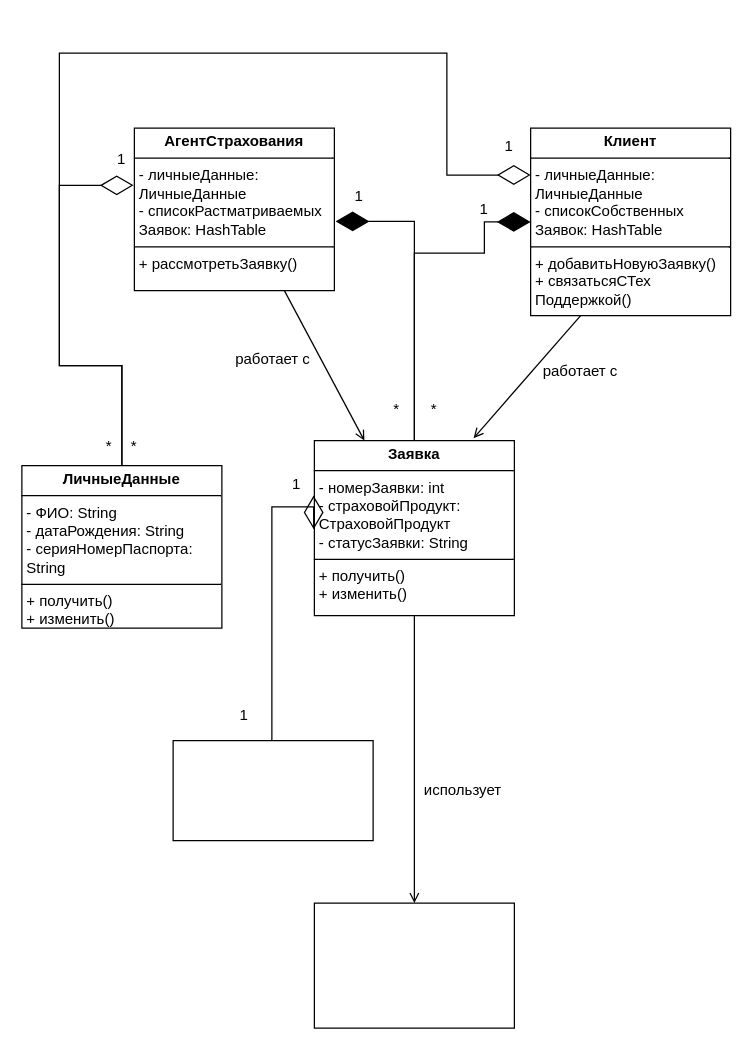
Some shapes in this 753 by 1050 pixel diagram are drawn without their labels. The shapes that lost their labels are listed below. From the top down, each one's box as (x1, y1, x2, y2) in pixels, then its label:
(172, 739, 373, 841): СтраховойПродукт - название: String - описание: String - номерВидаПродукта: int
(313, 902, 514, 1028): БазаДаных - данные : HashTable + получить() + изменить()
